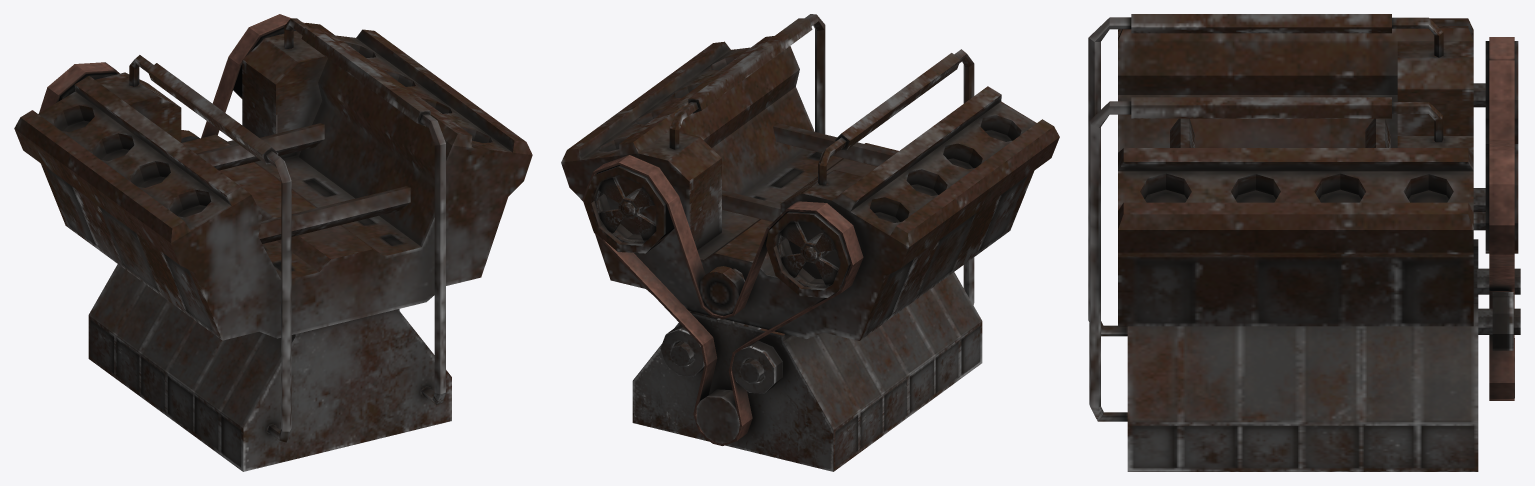
The model's file is broken_engine.fbx.
3 renders of one model, left to right at view 1: azimuth 30°, elevation 25°; view 2: azimuth 150°, elevation 25°; view 3: azimuth 270°, elevation 25°, orthographic. The views are drawn at different scales.
Parts seen in each view (by area): view 1: broken_engine; view 2: broken_engine; view 3: broken_engine.
Boxes of the visible parts, <box> form: broken_engine: <box>14,14,532,471</box>; broken_engine: <box>561,14,1059,471</box>; broken_engine: <box>1088,14,1520,471</box>.
Size of the model in its own units: 115 by 96.28 by 105.
1 material, 1 textured.
